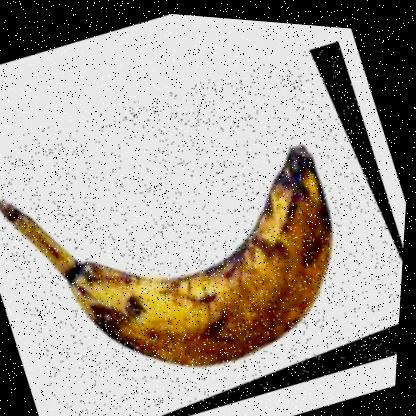banana_rotten: (0, 12, 415, 415)
